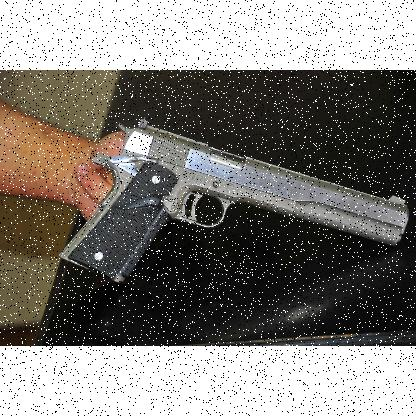gun: (57, 115, 409, 283)
